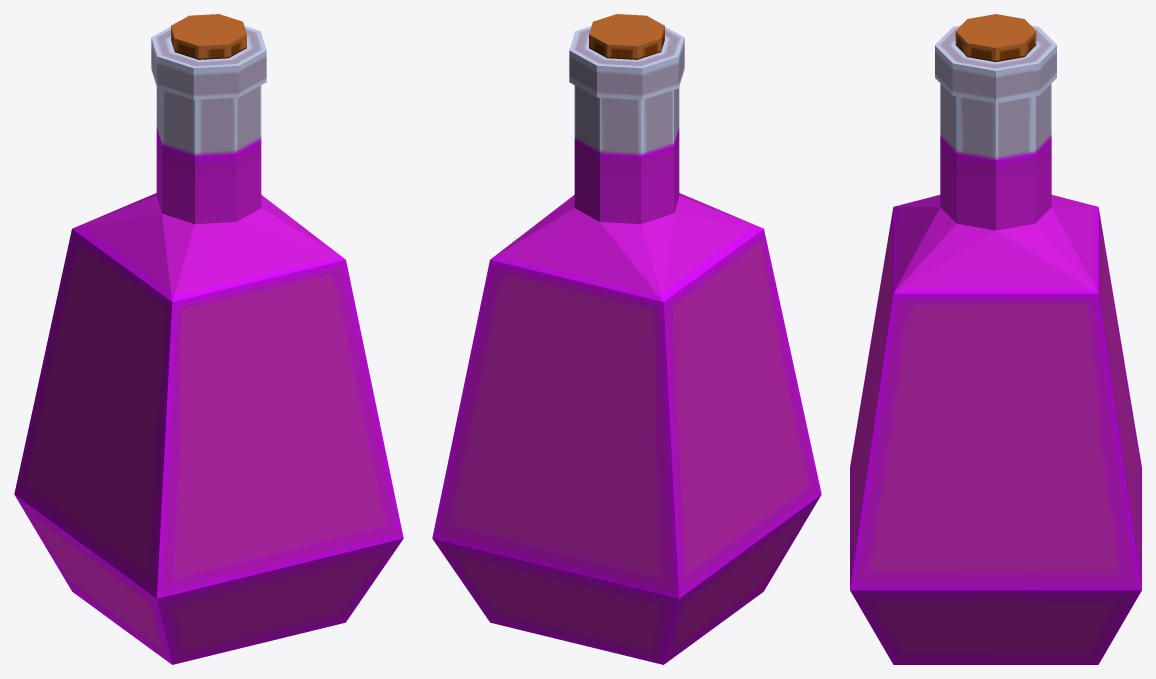
File: InstantHealPot.fbx
The picture shows the model from 3 angles, left to right: view 1: azimuth 30°, elevation 25°; view 2: azimuth 150°, elevation 25°; view 3: azimuth 270°, elevation 25°; orthographic projection. The views are drawn at different scales.
Visible parts, largest first — view 1: Healing Potion; view 2: Healing Potion; view 3: Healing Potion.
Part boxes in pixels (x1,y1,x2,y2): Healing Potion: (14,14,403,664); Healing Potion: (432,14,821,664); Healing Potion: (850,14,1141,664).
Bounding box in the file's own units: 0.0933 × 0.0933 × 0.2085.
